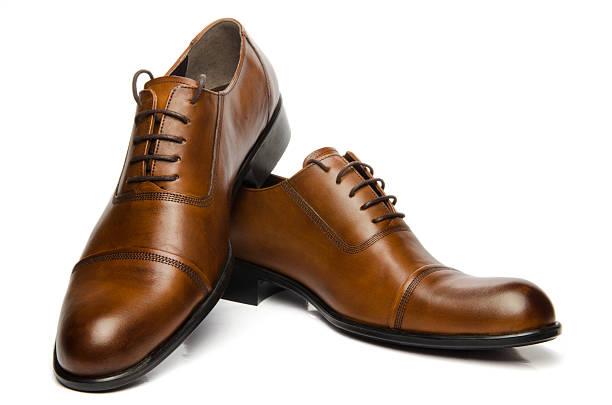Footwear: (46, 10, 294, 403)
